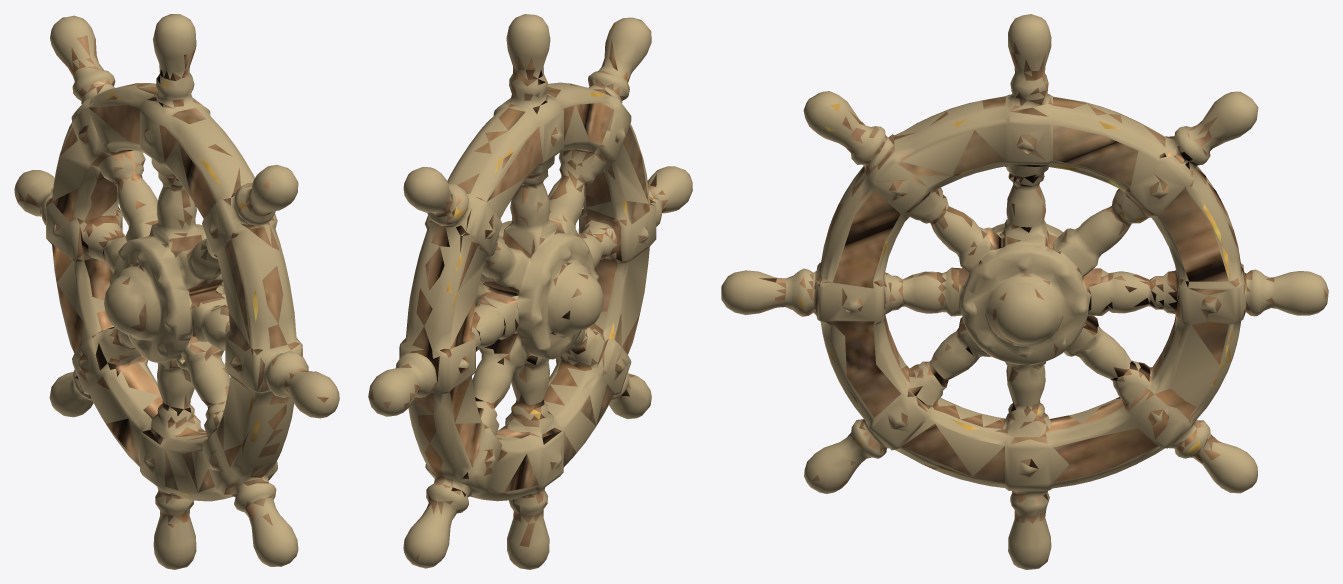
Rendered from ships-wheel.glb.
3 renders of one model, left to right at view 1: azimuth 30°, elevation 25°; view 2: azimuth 150°, elevation 25°; view 3: azimuth 270°, elevation 25°, orthographic.
Visible parts, largest first — view 1: ships-wheel; view 2: ships-wheel; view 3: ships-wheel.
Part boxes in pixels (x1,y1,x2,y2): ships-wheel: [14, 14, 339, 569]; ships-wheel: [368, 14, 692, 569]; ships-wheel: [721, 14, 1328, 569].
Bounding box in the file's own units: 0.7259 × 2.82 × 2.82.
Materials: 4 (3 with a texture image).
